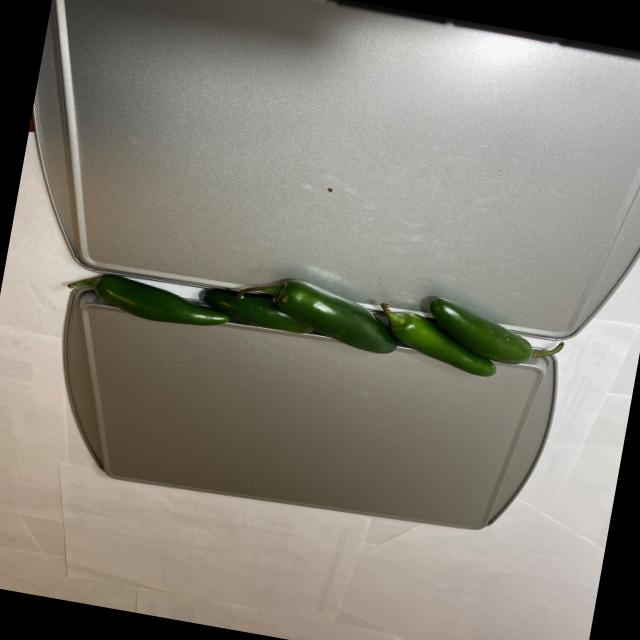chilli: (55, 235, 567, 392)
